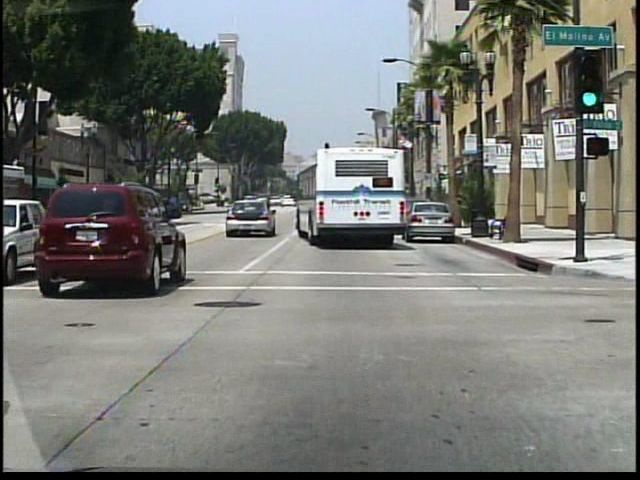person: (456, 190, 470, 227)
